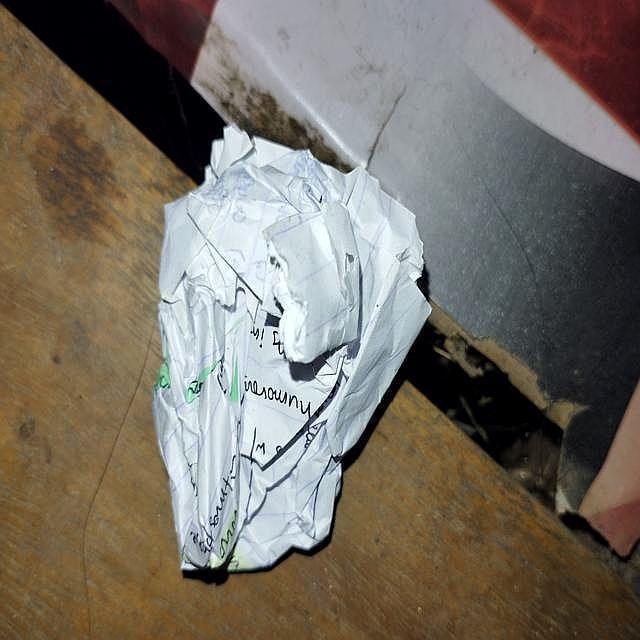Biodegradable: (151, 125, 437, 577)
